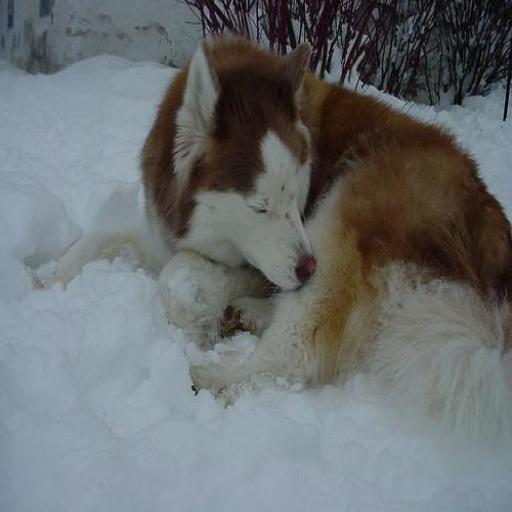dog_face: (159, 42, 317, 294)
